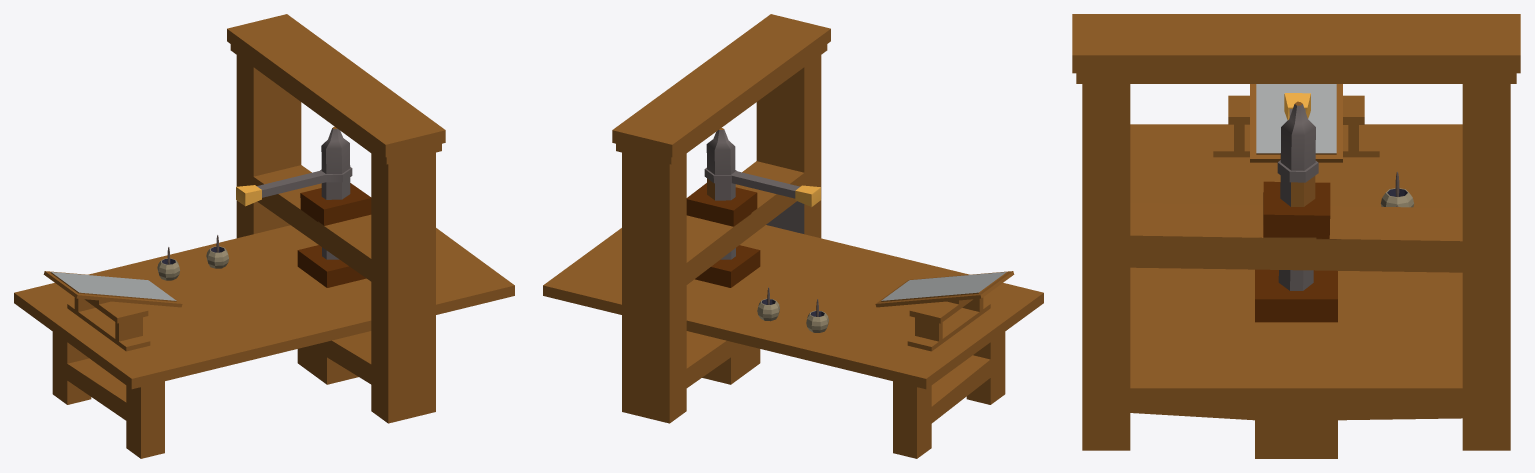
File: MaquinaImpresion.fbx
3 renders of one model, left to right at view 1: azimuth 30°, elevation 25°; view 2: azimuth 150°, elevation 25°; view 3: azimuth 270°, elevation 25°, orthographic. The views are drawn at different scales.
Visible parts, largest first — view 1: MaquinaImpresion; view 2: MaquinaImpresion; view 3: MaquinaImpresion, Tinta1.
Part boxes in pixels (x1,y1,x2,y2): MaquinaImpresion: [14, 14, 514, 458]; MaquinaImpresion: [543, 14, 1043, 458]; MaquinaImpresion: [1072, 14, 1520, 458]; Tinta1: [1380, 188, 1414, 207].
Bounding box in the file's own units: 1.94 × 1.35 × 1.35.
